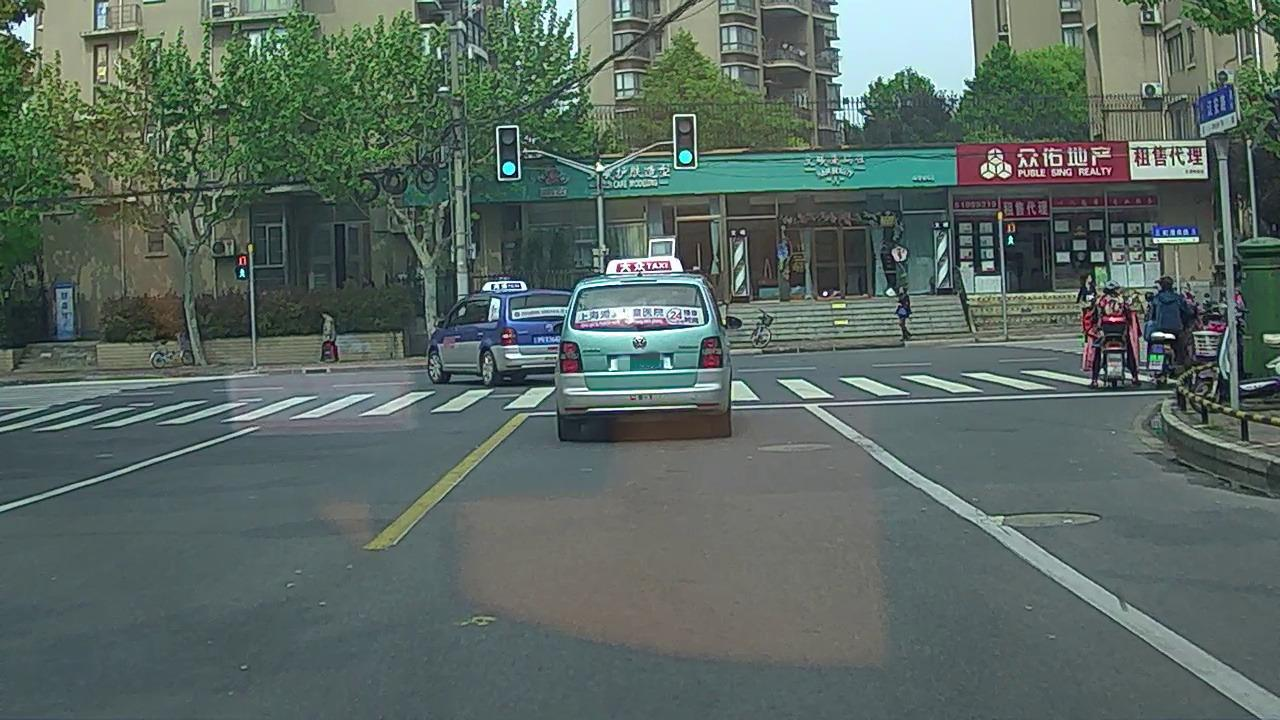traffic_light: (499, 127, 519, 178), (675, 117, 695, 167)
